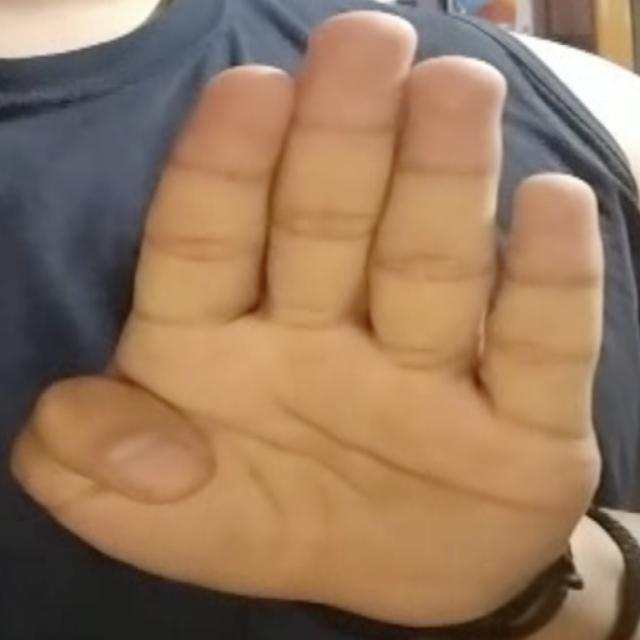B: (7, 7, 609, 610)
